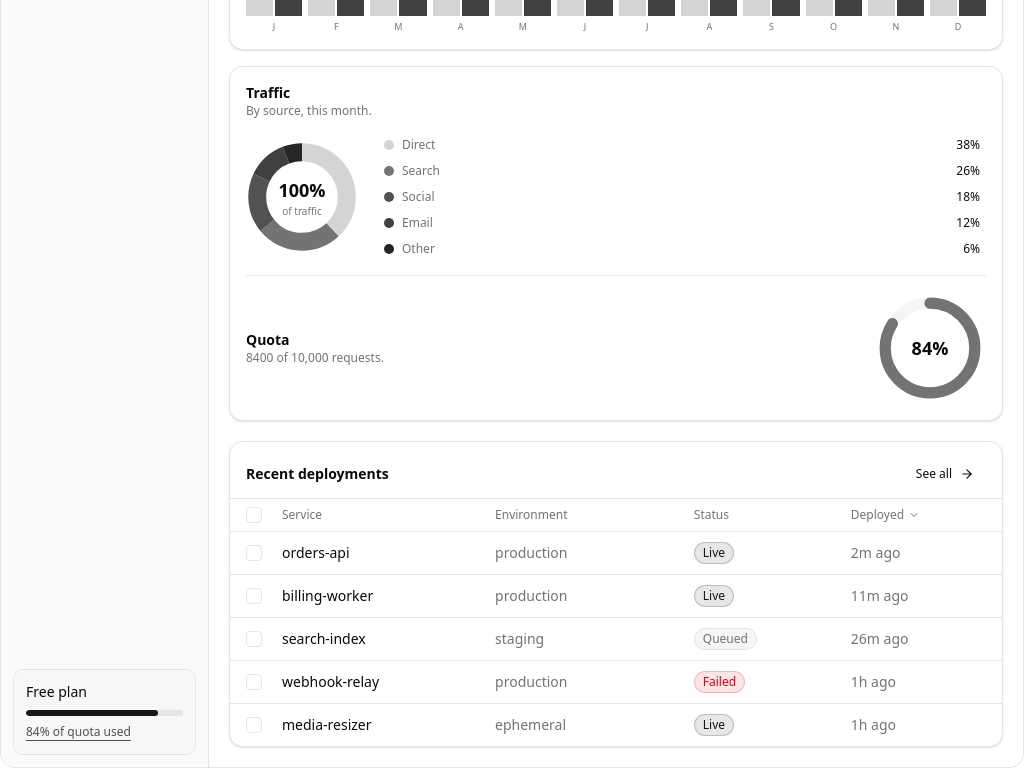
the dashboard › selects rows and offers a bulk action
The image size is (1024, 768).
(page scrolled)
Check: the text "selected" is not shown
What coordinates should you click on to do the following:
click the checkbox named "Select orders-api"
I would click on:
 (254, 553)
Its box is [246, 545, 262, 561].
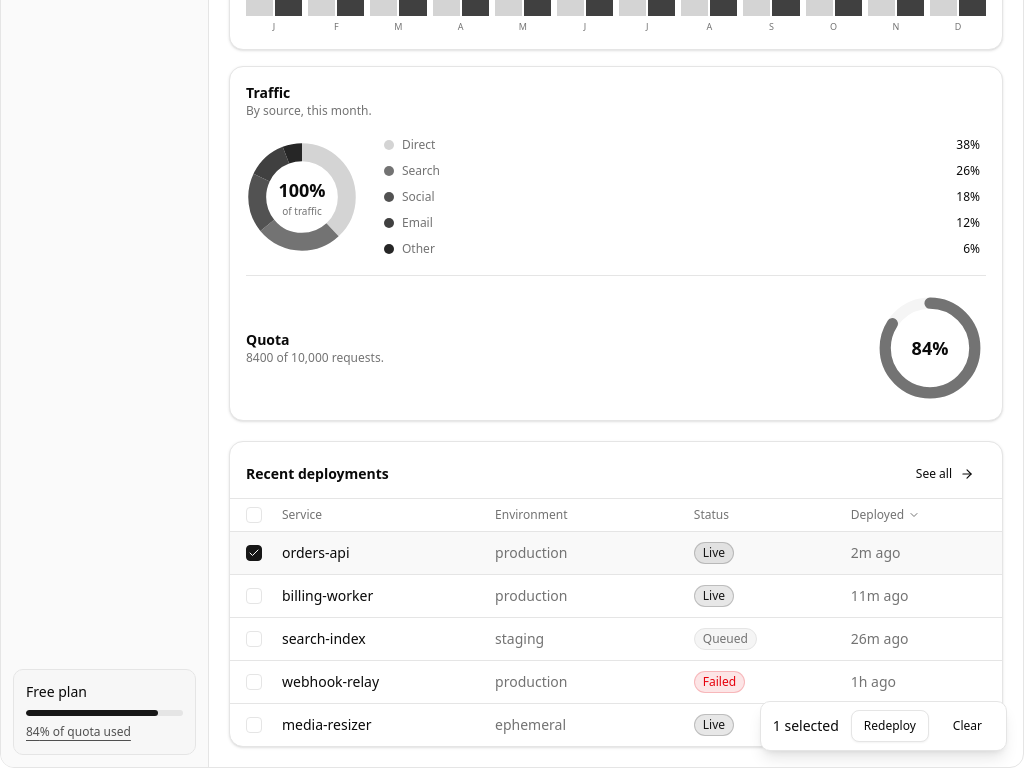
Check: the text "1 selected" is shown, box [773, 716, 839, 736]
What coordinates should you click on to do the following:
click the button "Clear"
I would click on:
 (967, 726)
Its box is [941, 710, 994, 742].
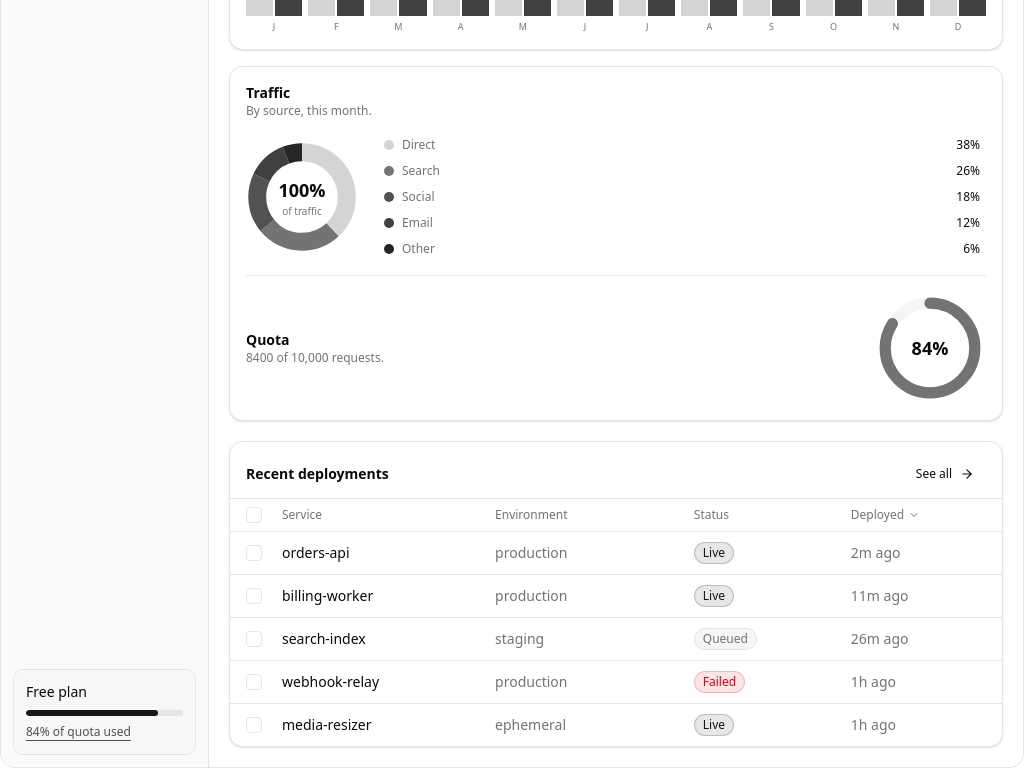
Check: the text "selected" is gone
